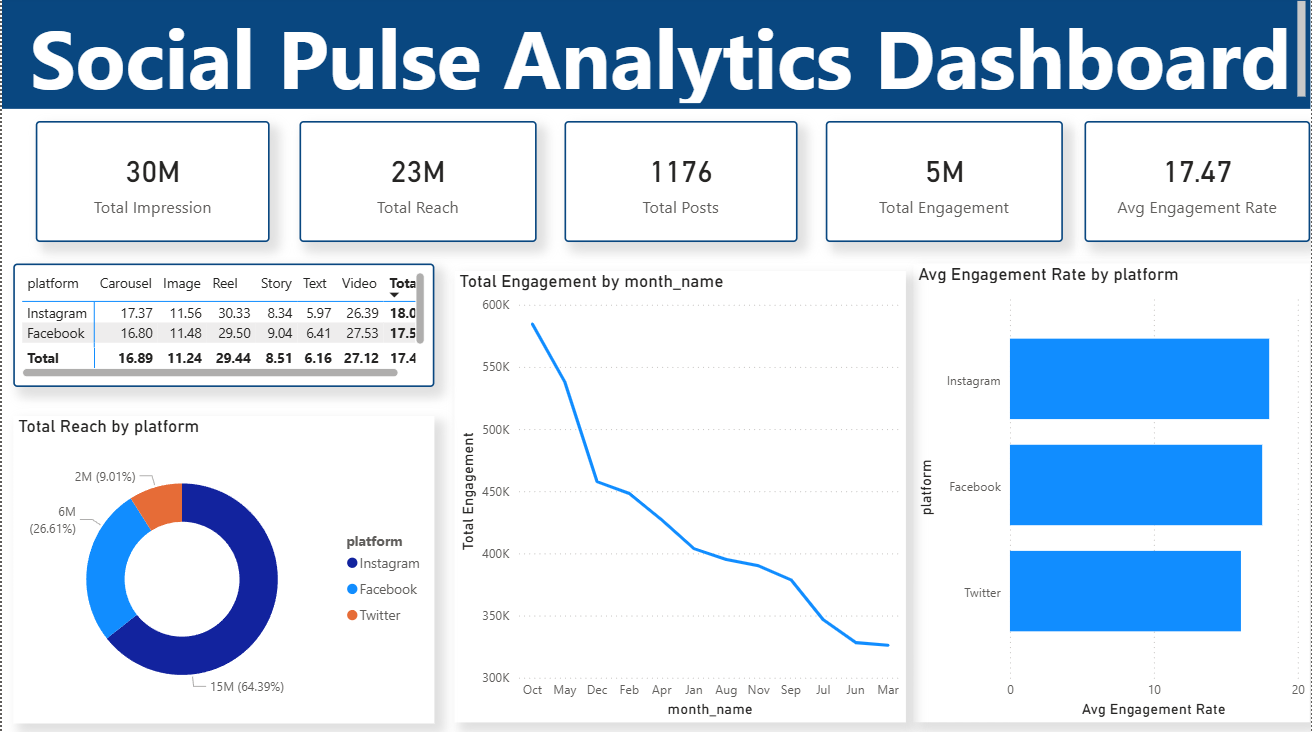

The page's visual inventory and layout, read from the dashboard file:
{"tool":"powerbi","page":{"name":" Page 2","canvas":[1280,720],"ordinal":1},"visuals":[{"type":"card","fields":{"Values":["DateTable.Total Reach"]},"box":[290.9,122.1,231.9,118],"z":0},{"type":"card","fields":{"Values":["DateTable.Total Posts"]},"box":[550.3,122.1,227.8,118],"z":1000},{"type":"card","fields":{"Values":["DateTable.Total Impression"]},"box":[32.9,122.1,229.2,118],"z":2000},{"type":"textbox","box":[0,0,1280,110],"z":3000},{"type":"clusteredBarChart","fields":{"Category":["social_media_cleaned.platform"],"Y":["DateTable.Avg Engagement Rate"]},"box":[891.9,262.1,388.3,448.7],"z":4000},{"type":"lineChart","fields":{"Category":["social_media_cleaned.month_name"],"Y":["DateTable.Total Engagement"]},"box":[443.2,269,441.9,441.9],"z":5000},{"type":"pivotTable","fields":{"Rows":["social_media_cleaned.platform"],"Columns":["social_media_cleaned.content_type"],"Values":["DateTable.Avg Engagement Rate"]},"box":[11,262.1,411.7,120.8],"z":6000},{"type":"card","fields":{"Values":["DateTable.Total Engagement"]},"box":[805.5,122.1,231.9,118],"z":7000},{"type":"donutChart","fields":{"Category":["social_media_cleaned.platform"],"Y":["DateTable.Total Reach"]},"box":[11,410.3,411.7,300.5],"z":8000},{"type":"card","fields":{"Values":["DateTable.Avg Engagement Rate"]},"box":[1059.4,122.1,220.9,118],"z":9000}]}

Visuals, with their boxes in screenshot pixels (x1, y1, x2, y2), scaled from the page's 1280x720 canvas onto the 1312x732 screenshot:
card - DateTable.Total Reach: l=298, t=124, r=536, b=244
card - DateTable.Total Posts: l=564, t=124, r=798, b=244
card - DateTable.Total Impression: l=34, t=124, r=269, b=244
textbox: l=0, t=0, r=1311, b=112
clusteredBarChart - social_media_cleaned.platform x DateTable.Avg Engagement Rate: l=914, t=266, r=1311, b=723
lineChart - social_media_cleaned.month_name x DateTable.Total Engagement: l=454, t=273, r=907, b=723
pivotTable - social_media_cleaned.platform x social_media_cleaned.content_type: l=11, t=266, r=433, b=389
card - DateTable.Total Engagement: l=826, t=124, r=1063, b=244
donutChart - social_media_cleaned.platform x DateTable.Total Reach: l=11, t=417, r=433, b=723
card - DateTable.Avg Engagement Rate: l=1086, t=124, r=1311, b=244
